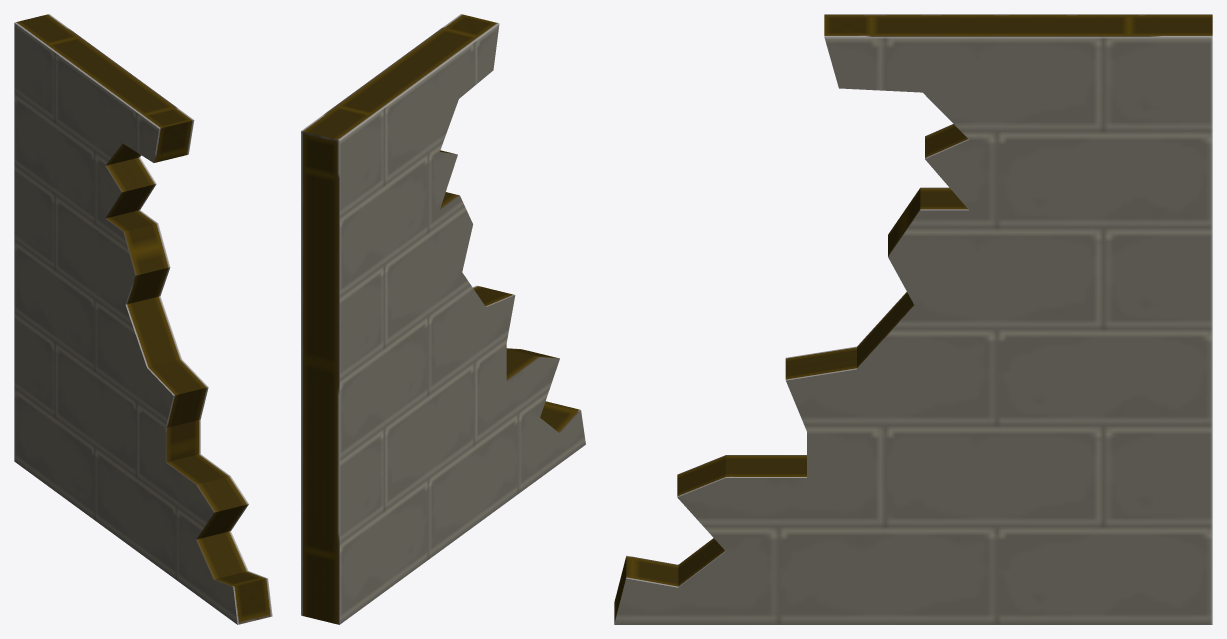
Rendered from Wall_Broken_L_15.fbx.
3 views of the same model, side by side, from view 1: azimuth 30°, elevation 25°; view 2: azimuth 150°, elevation 25°; view 3: azimuth 270°, elevation 25° (orthographic). The views are drawn at different scales.
Parts seen in each view (by area): view 1: Wall_Broken_L_15; view 2: Wall_Broken_L_15; view 3: Wall_Broken_L_15.
Boxes of the visible parts, x1=… form: Wall_Broken_L_15: x1=14, y1=14, x2=272, y2=624; Wall_Broken_L_15: x1=301, y1=14, x2=585, y2=624; Wall_Broken_L_15: x1=614, y1=14, x2=1212, y2=624.
Bounding box in the file's own units: 50 × 600 × 553.
